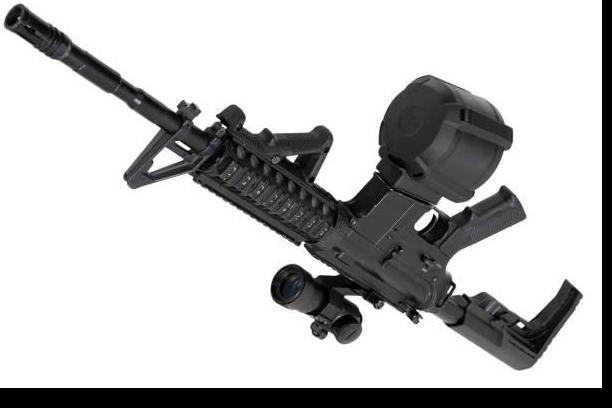larga: (4, 4, 583, 371)
